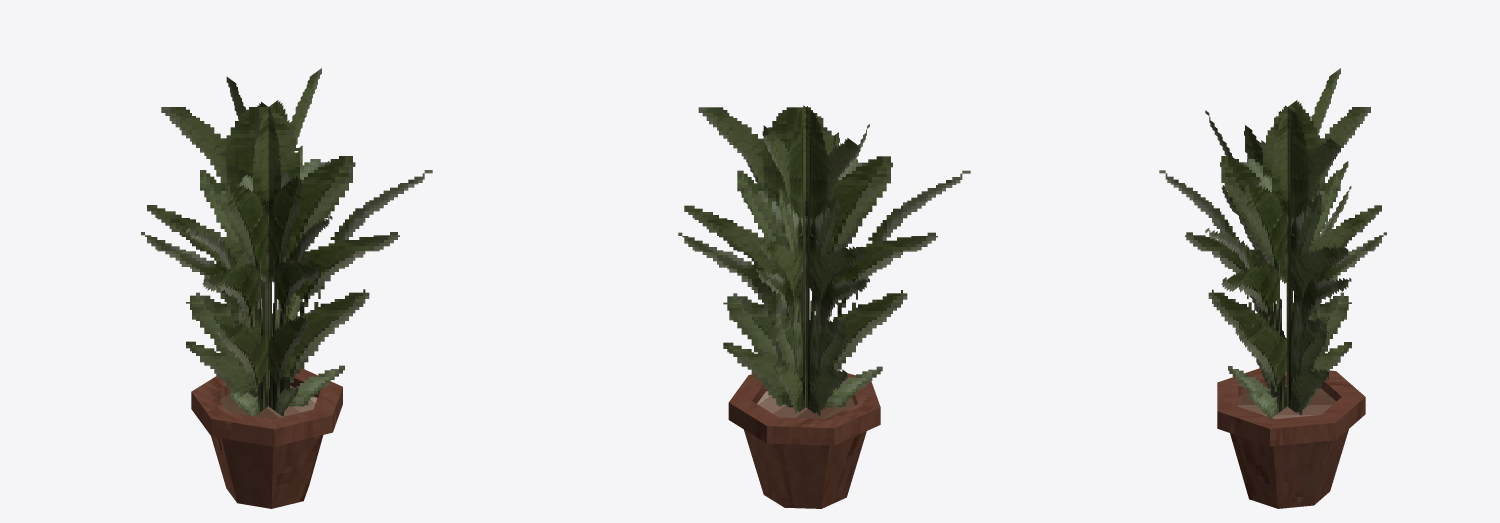
File: plant1.glb
The picture shows the model from 3 angles, left to right: view 1: azimuth 30°, elevation 25°; view 2: azimuth 150°, elevation 25°; view 3: azimuth 270°, elevation 25°; orthographic projection.
Parts seen in each view (by area): view 1: Plane.002; view 2: Plane.002; view 3: Plane.002.
Boxes of the visible parts, <box> form: Plane.002: <box>141,68,432,508</box>; Plane.002: <box>678,105,970,508</box>; Plane.002: <box>1159,68,1386,508</box>.
Size of the model in its own units: 6.67 by 6.42 by 6.
Materials: 5 (5 with a texture image).
